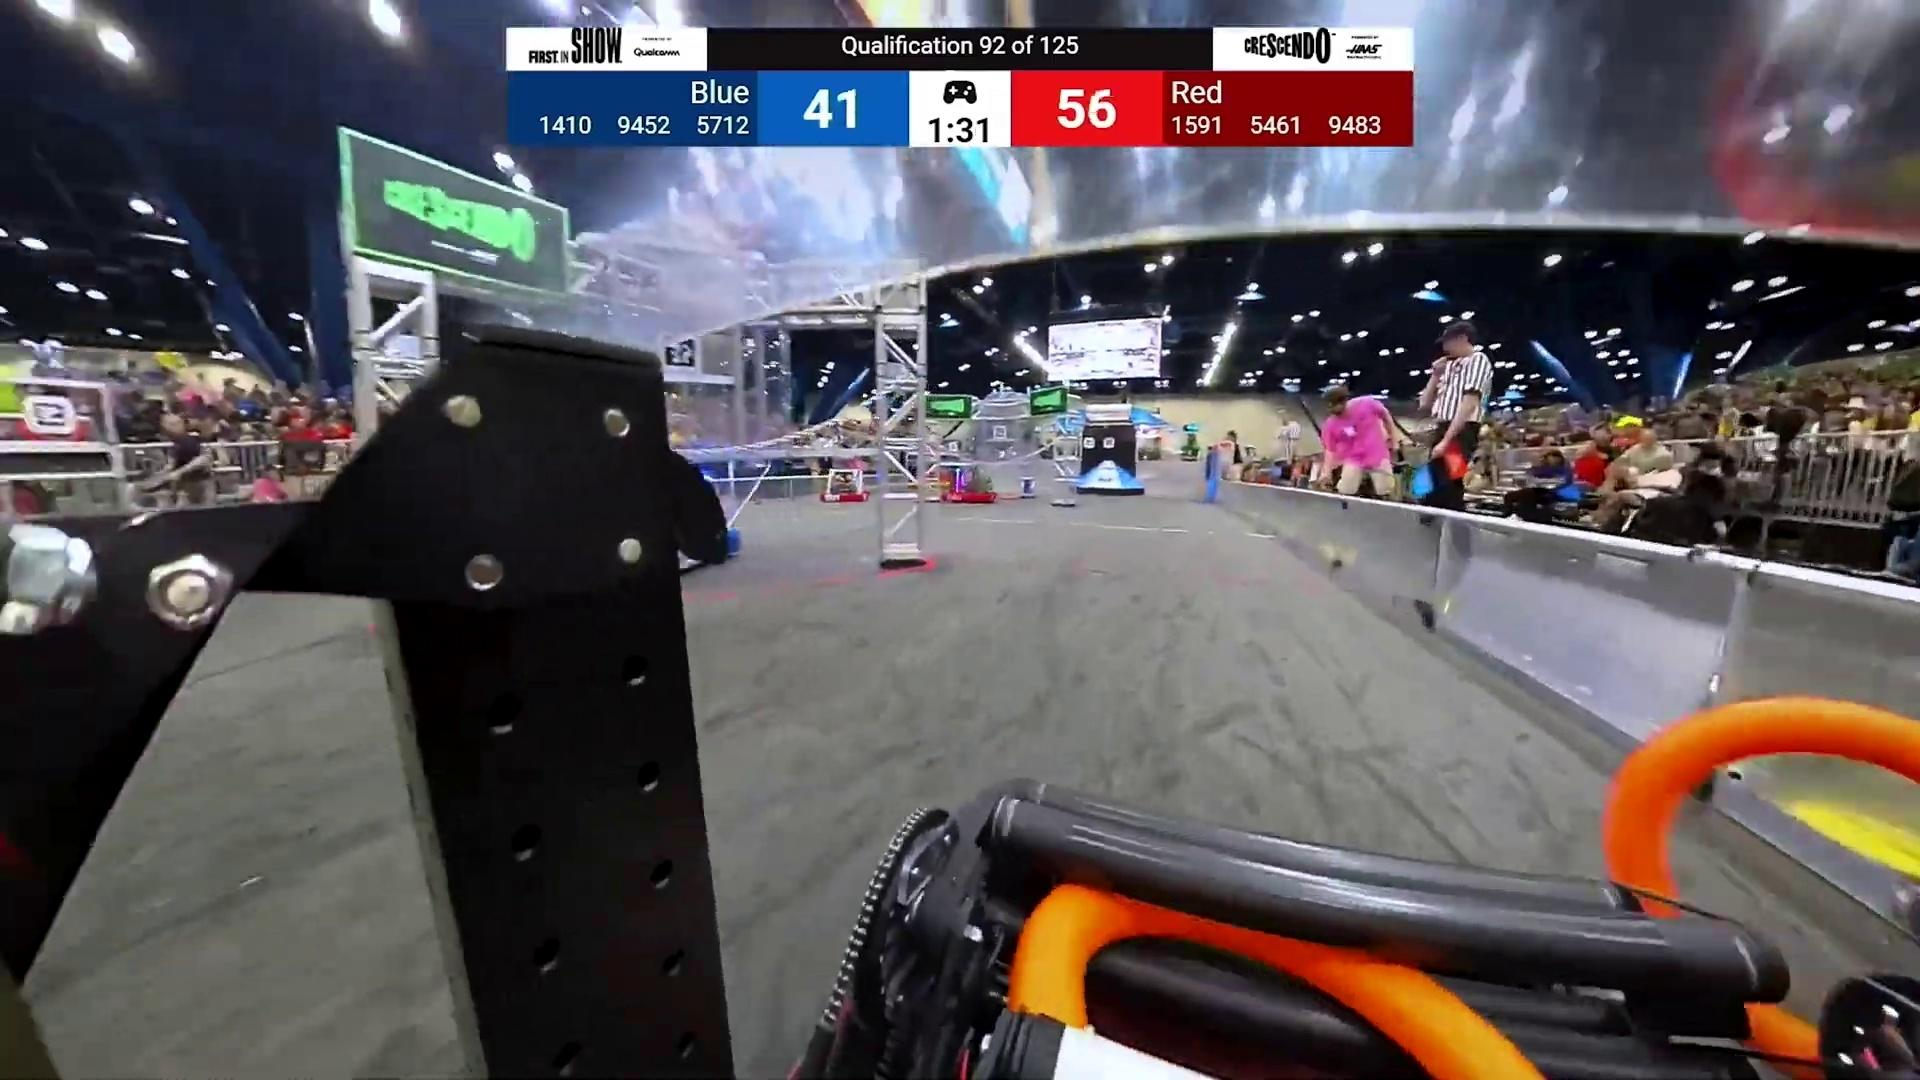robot: (679, 472, 741, 556), (942, 463, 998, 504), (819, 468, 870, 504)
